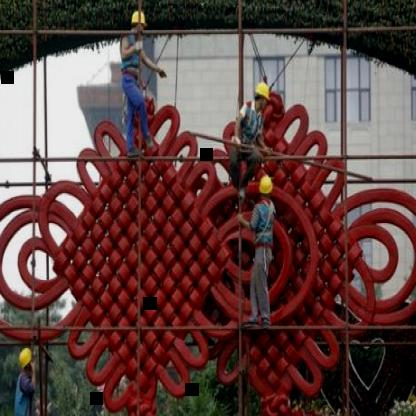helmet: (250, 82, 272, 116), (258, 170, 276, 202), (130, 5, 146, 40), (18, 345, 34, 377)
